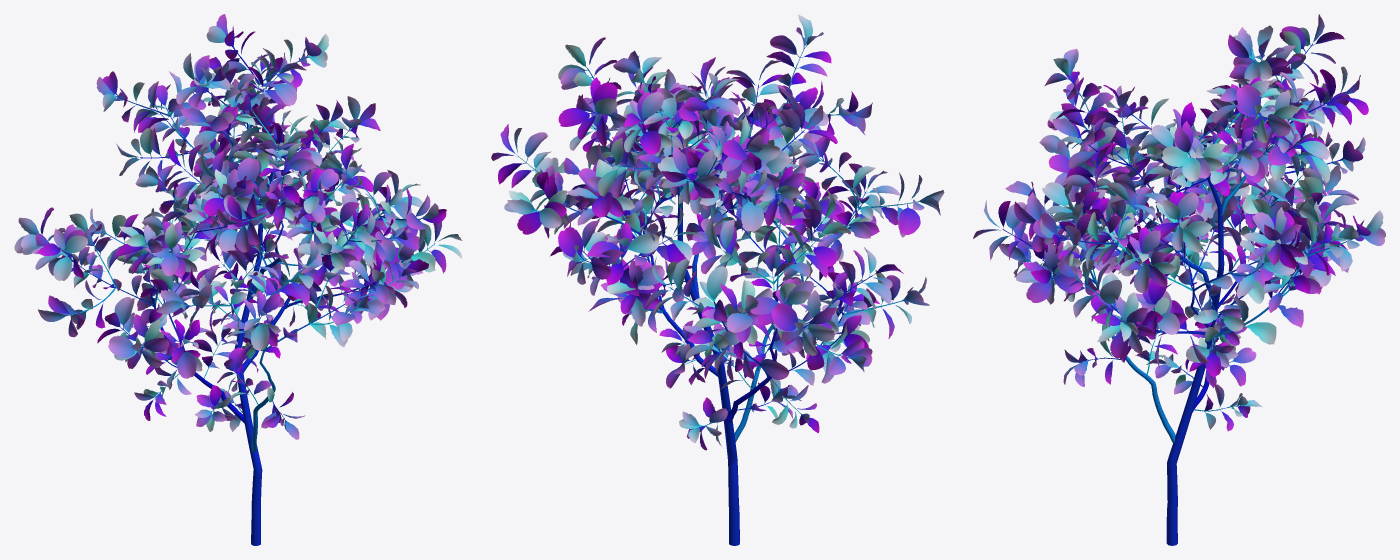
Rendered from European_Spindle_wk1ncbxja_Raw_wk1ncbxja_VarA_LOD0.fbx.
The picture shows the model from 3 angles, left to right: view 1: azimuth 30°, elevation 25°; view 2: azimuth 150°, elevation 25°; view 3: azimuth 270°, elevation 25°; orthographic projection. The views are drawn at different scales.
Visible parts, largest first — view 1: _b3x4_VarA_High; view 2: _b3x4_VarA_High; view 3: _b3x4_VarA_High.
Part boxes in pixels (<box>): _b3x4_VarA_High: <box>14,14,462,545</box>; _b3x4_VarA_High: <box>491,14,944,545</box>; _b3x4_VarA_High: <box>973,14,1385,545</box>.
Bounding box in the file's own units: 146 × 175 × 129.
